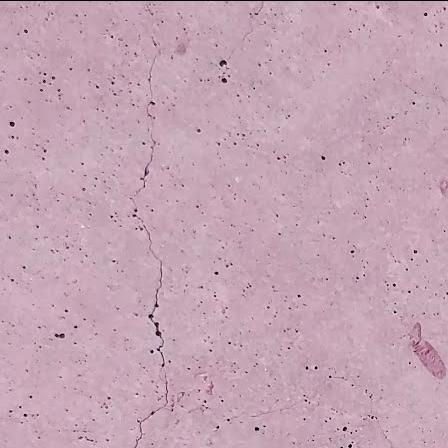crack: (124, 48, 171, 447), (238, 0, 267, 43)
